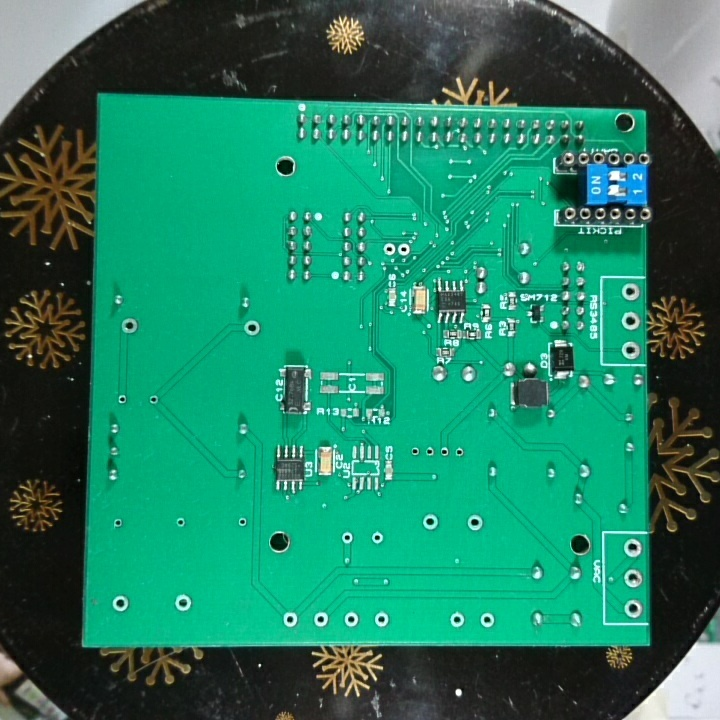F: (172, 590, 196, 616), (620, 537, 644, 562), (619, 309, 641, 335), (241, 316, 264, 340), (619, 281, 642, 305), (622, 597, 644, 621), (618, 339, 642, 361), (109, 593, 132, 615), (279, 609, 301, 632), (419, 512, 441, 534), (464, 512, 486, 534), (119, 315, 140, 338), (622, 567, 643, 590), (447, 609, 468, 631), (371, 609, 392, 630), (311, 609, 331, 631), (477, 610, 497, 632), (341, 609, 361, 629), (338, 529, 357, 549), (397, 238, 412, 260), (380, 240, 397, 259), (368, 529, 385, 548), (235, 513, 249, 532), (452, 444, 468, 460), (173, 515, 188, 531), (422, 443, 436, 460), (145, 392, 160, 407), (437, 444, 452, 459), (108, 516, 124, 530), (408, 443, 421, 459), (116, 392, 128, 406)
